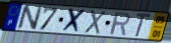7: (40, 6, 61, 32)
N: (16, 5, 44, 31)
R: (108, 12, 131, 37)
T: (134, 12, 153, 39)
X: (60, 7, 87, 35), (83, 9, 107, 35)
